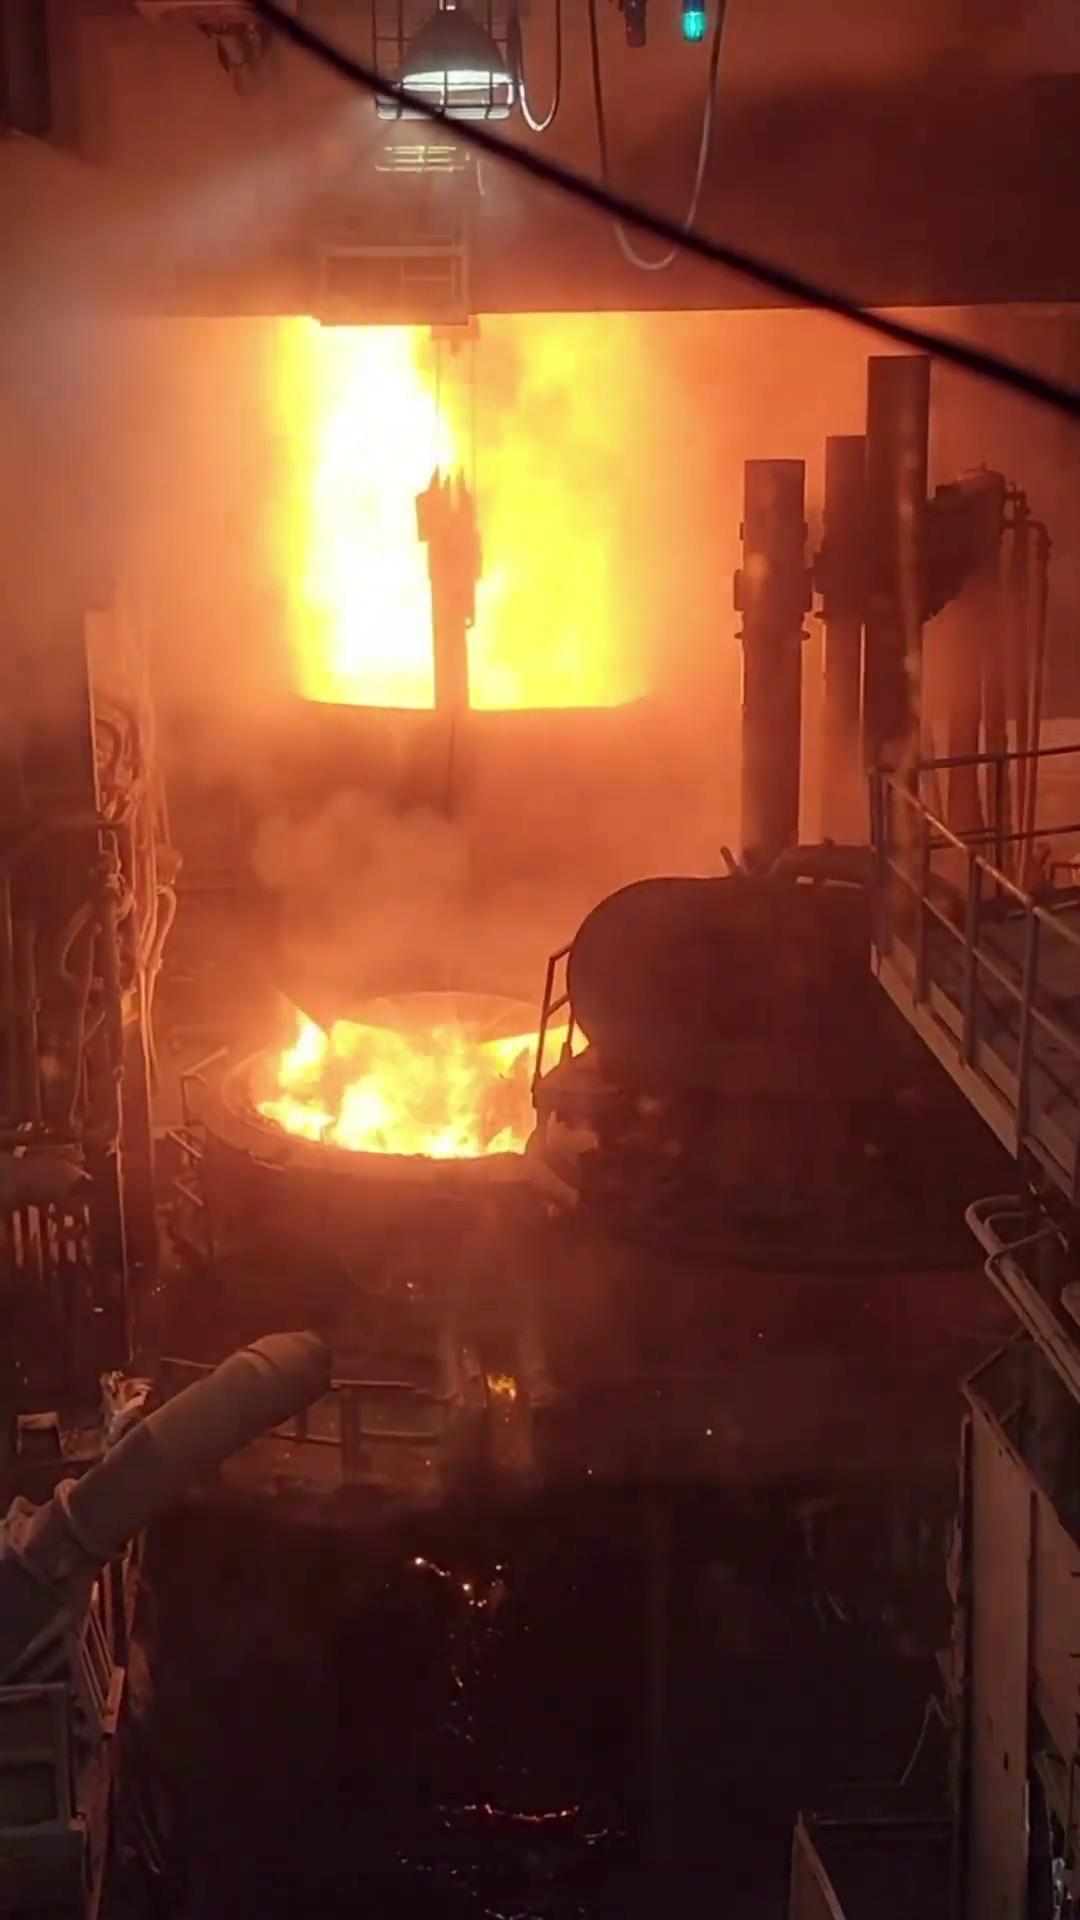fire: (26, 233, 963, 1304)
